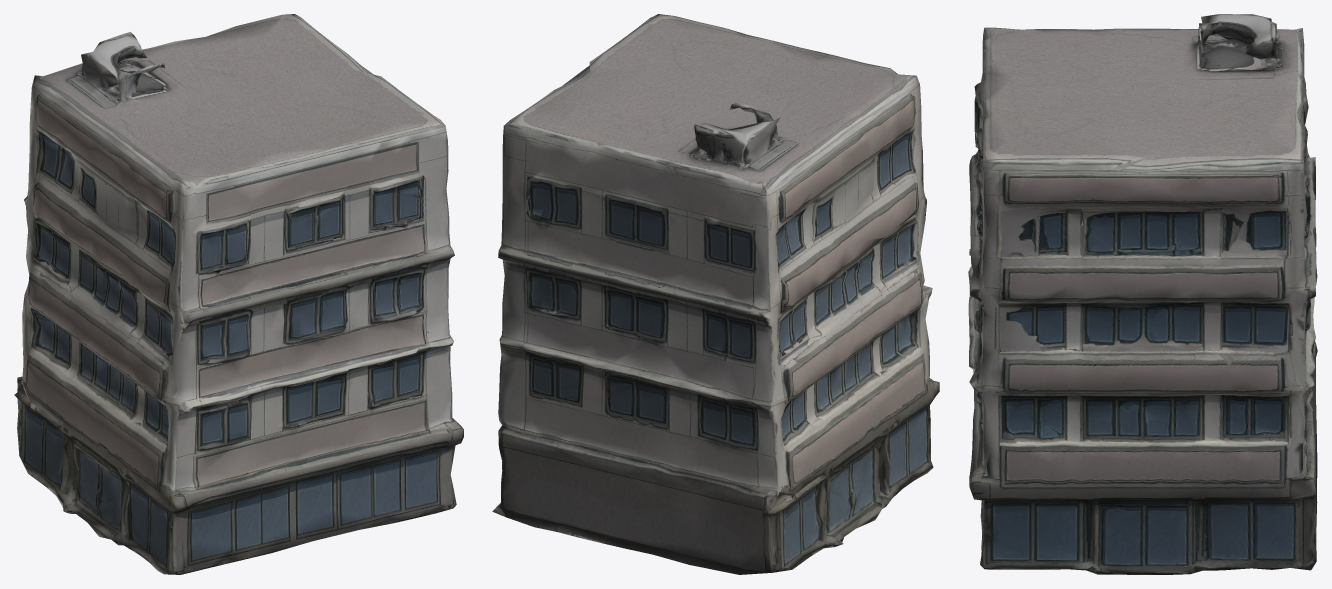
The model's file is KR_Sangga_02.glb.
3 renders of one model, left to right at view 1: azimuth 30°, elevation 25°; view 2: azimuth 150°, elevation 25°; view 3: azimuth 270°, elevation 25°, orthographic. The views are drawn at different scales.
Visible parts, largest first — view 1: texture_mapping; view 2: texture_mapping; view 3: texture_mapping.
Boxes of the visible parts, left/top/right/bottom form: texture_mapping: left=14, top=14, right=463, bottom=574; texture_mapping: left=492, top=14, right=939, bottom=574; texture_mapping: left=968, top=14, right=1317, bottom=574.
Bounding box in the file's own units: 0.7265 × 0.9912 × 0.7041.
Materials: 1 (1 with a texture image).
